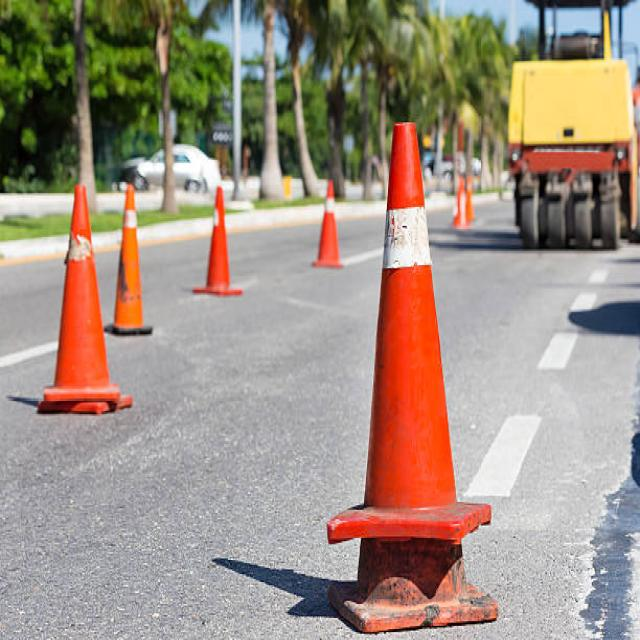Traffic Cone: (320, 91, 502, 563), (26, 152, 136, 455), (103, 165, 156, 347), (188, 155, 246, 310), (302, 162, 351, 288)
